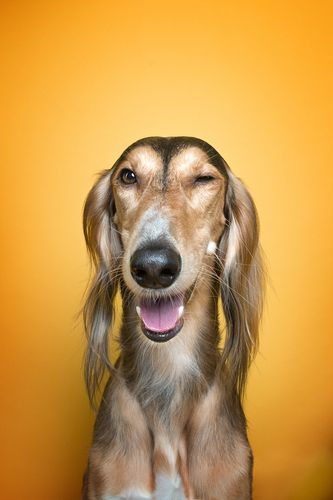dog: (77, 135, 261, 499)
